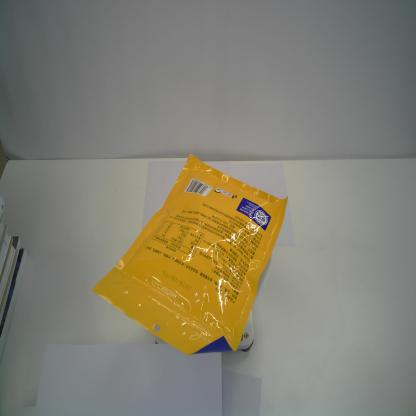Dried Fruit: (92, 150, 289, 360)
